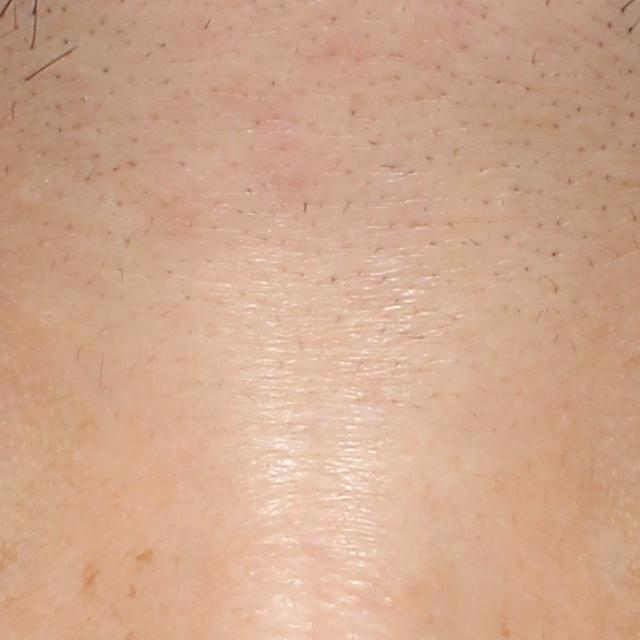melasma: (80, 554, 103, 594), (132, 546, 157, 567), (123, 581, 142, 599)
